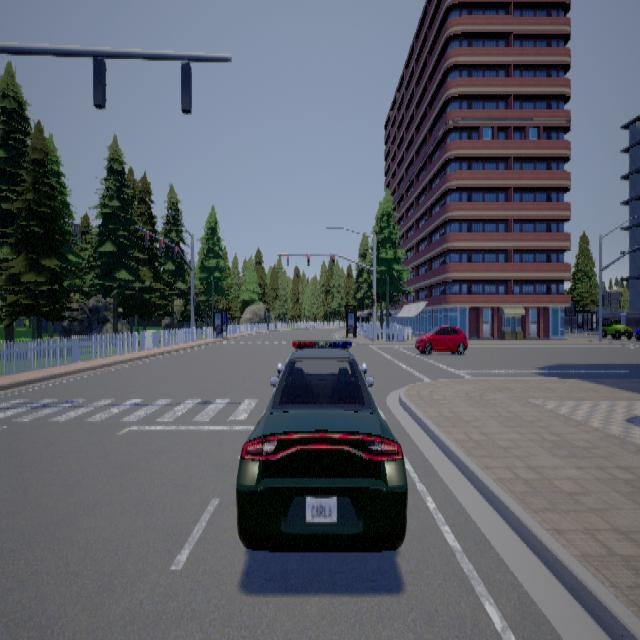red_light: (144, 231, 149, 246), (158, 238, 163, 252), (173, 244, 177, 258), (306, 253, 310, 266), (331, 254, 334, 266), (286, 253, 288, 266), (372, 293, 374, 305)
vehicle: (235, 338, 407, 550), (414, 323, 467, 354), (601, 316, 632, 338)
